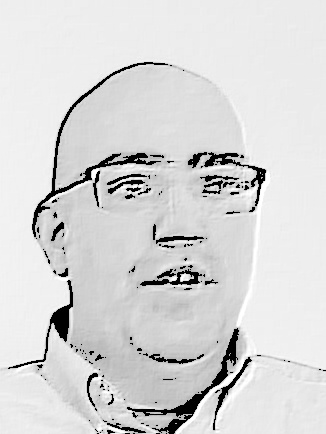nose_M_C: (151, 184, 211, 261)
